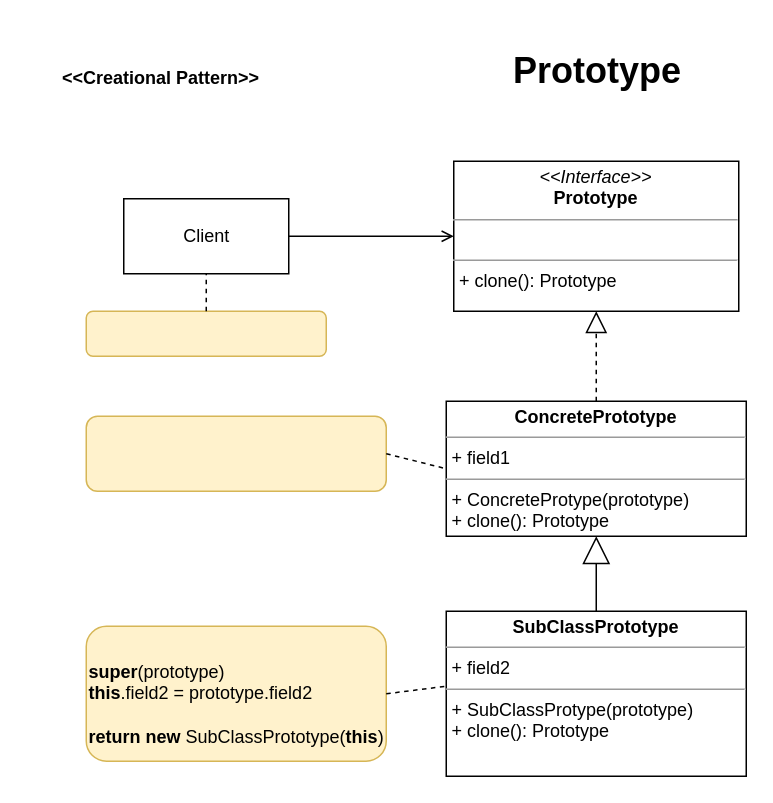
This 773x803 diagram has some shape labels left out. Here are the shapes that lost their labels. From the top down, the box of each, then its label:
(85, 310, 326, 356): copy = existing.clone()
(85, 415, 386, 491): this .field1 = prototype.field1 return new ConcretePrototype( this )
